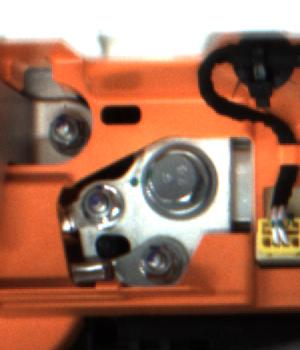screw_s: (74, 184, 122, 224), (137, 238, 182, 279), (43, 107, 84, 150)
